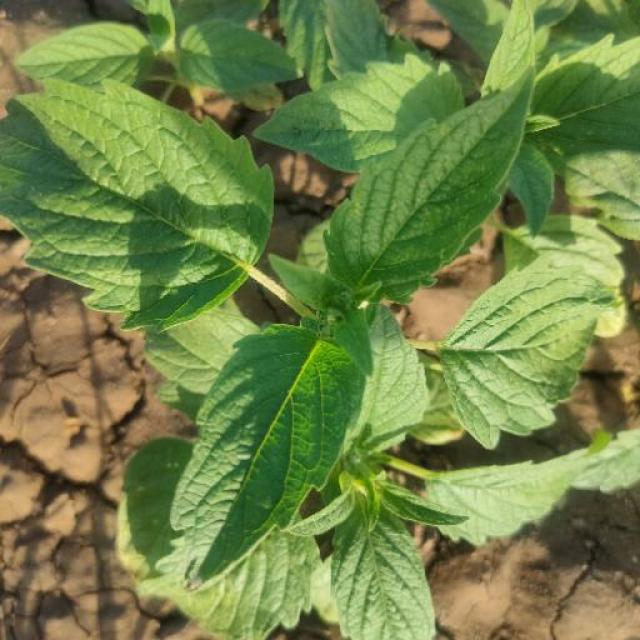crop: (10, 11, 635, 600)
